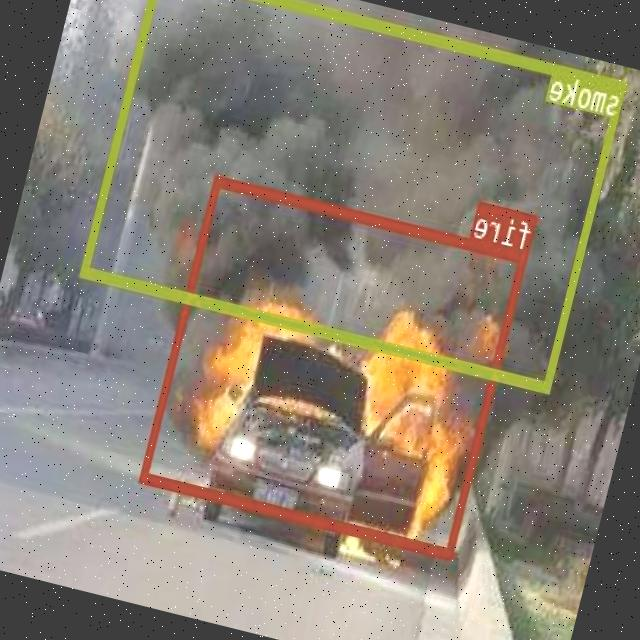fire: (140, 174, 529, 559)
smoke: (81, 0, 627, 391)
